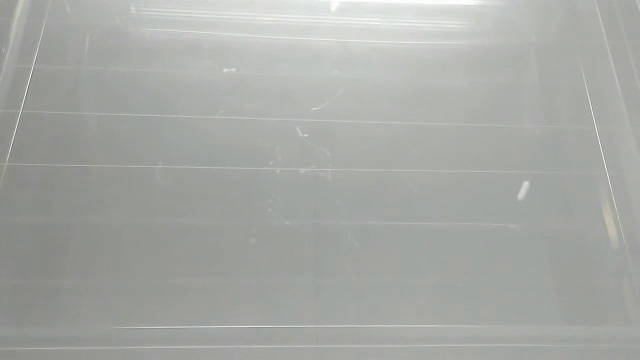alpha: (512, 178, 538, 205), (325, 1, 346, 15)
